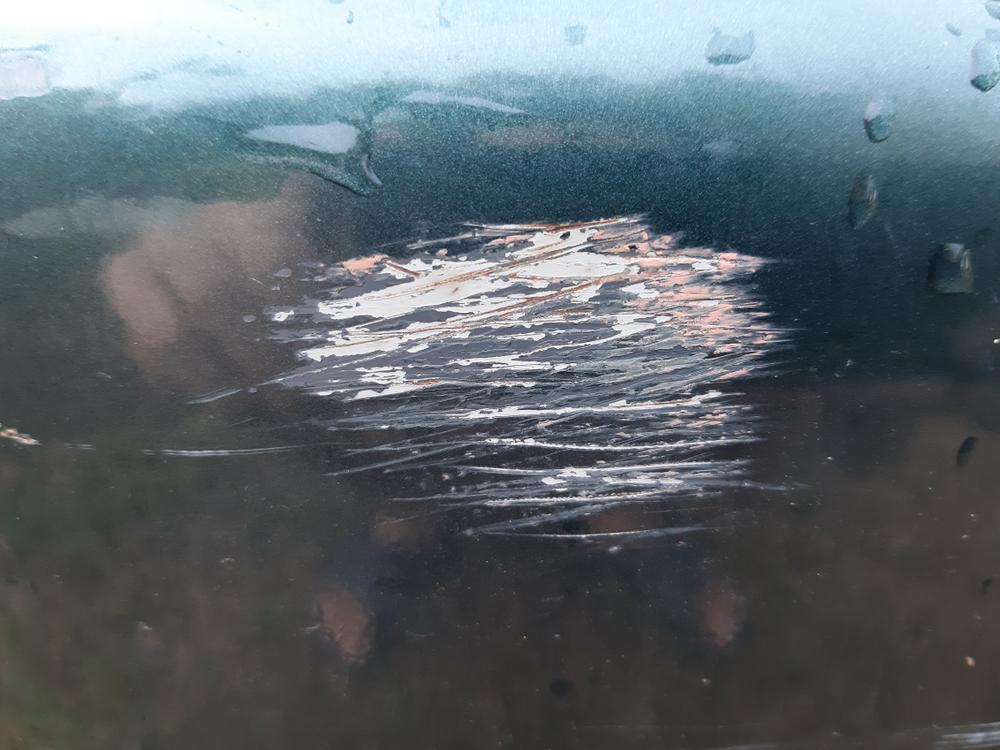scratch: (0, 212, 804, 546)
